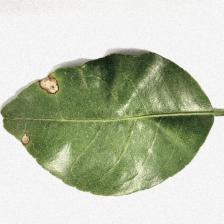canker: (9, 55, 81, 158)
